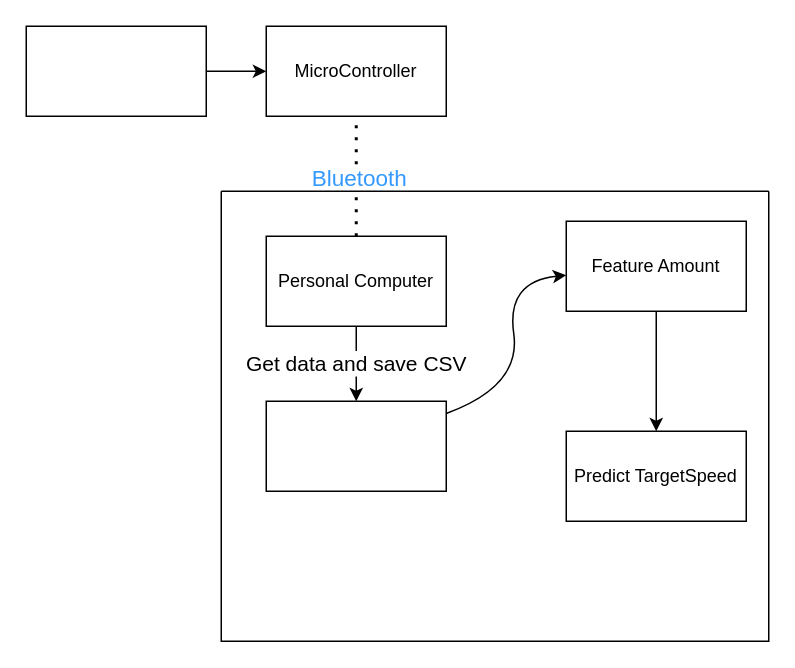
Some shapes in this 795 by 668 pixel diagram are drawn without their labels. Each missing label, with the box of its shape:
IMU Sensor: (25, 25, 206, 116)
RawData.csv: (265, 400, 446, 491)
